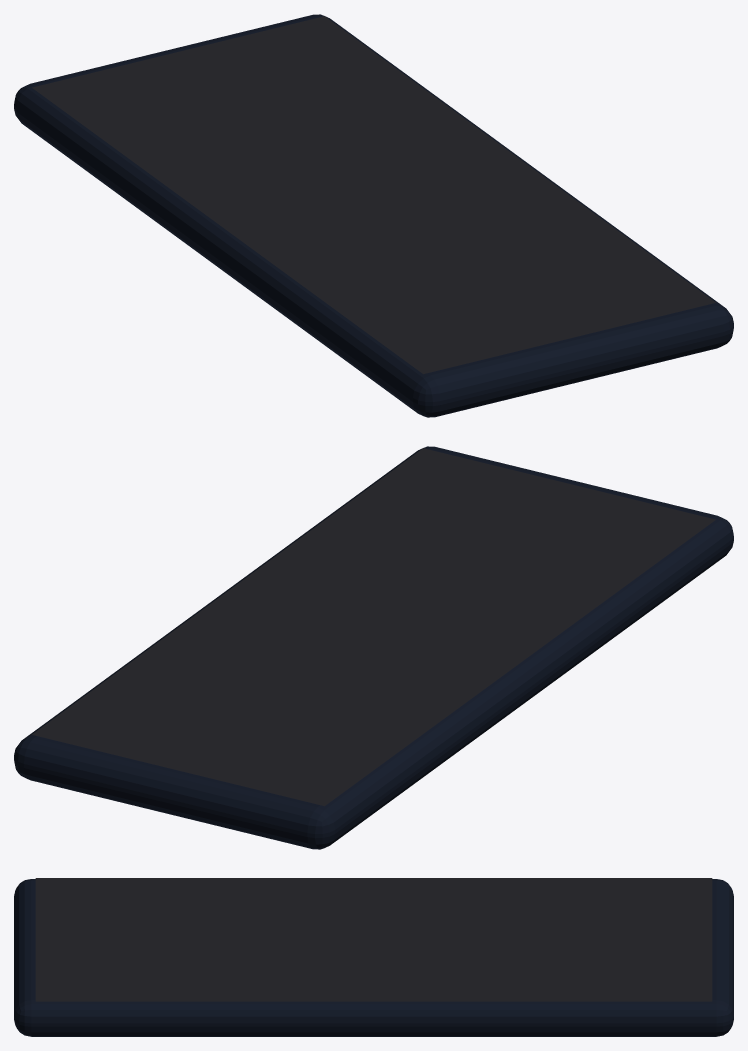
File: Phone_254.glb
3 renders of one model, top to bottom at view 1: azimuth 30°, elevation 25°; view 2: azimuth 150°, elevation 25°; view 3: azimuth 270°, elevation 25°, orthographic. The views are drawn at different scales.
Visible parts, largest first — view 1: Phone_Screen, Phone_Body; view 2: Phone_Screen, Phone_Body; view 3: Phone_Screen, Phone_Body.
Boxes of the visible parts, x1,y1,x2,y2 form: Phone_Screen: (32, 16, 715, 374); Phone_Body: (14, 14, 733, 417); Phone_Screen: (32, 448, 715, 806); Phone_Body: (14, 446, 733, 849); Phone_Screen: (35, 878, 712, 1001); Phone_Body: (14, 879, 733, 1036).
Bounding box in the file's own units: 0.0705 × 0.0087 × 0.1597.
